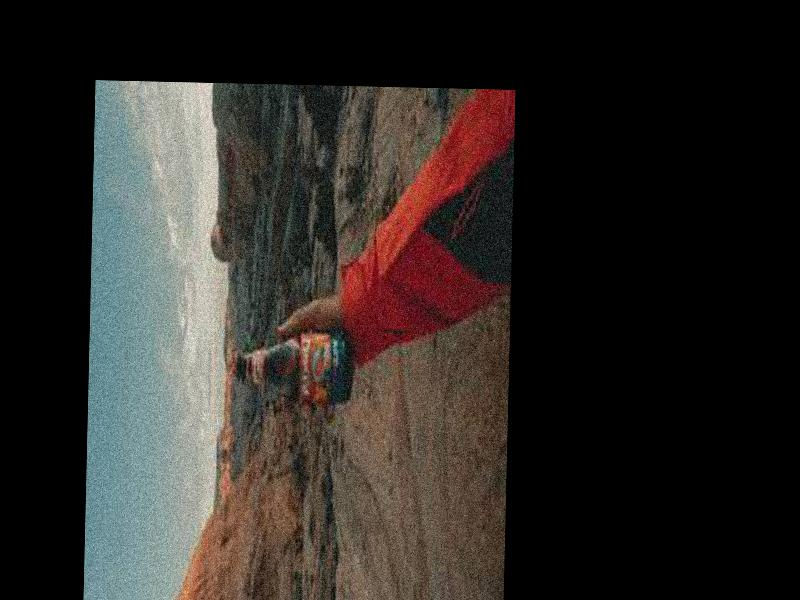Beer: (235, 323, 352, 407)
